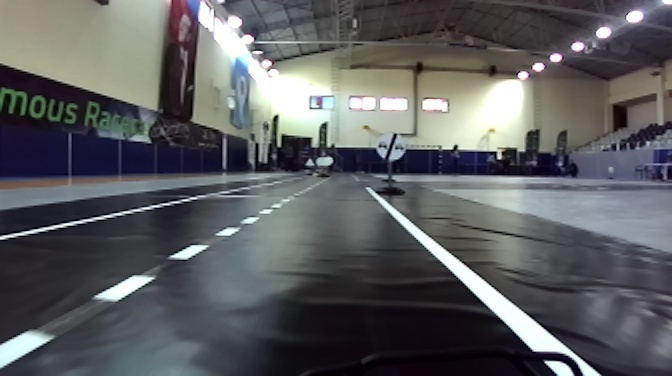sollama_serbest: (375, 132, 406, 161)
